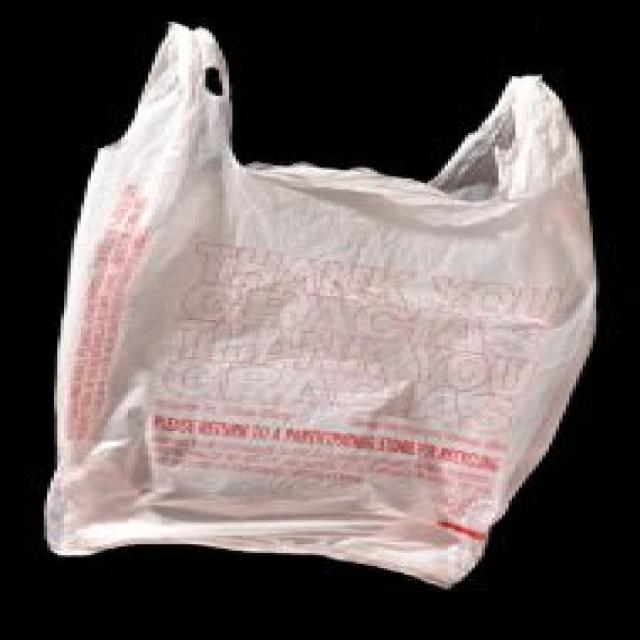general: (41, 20, 600, 590)
